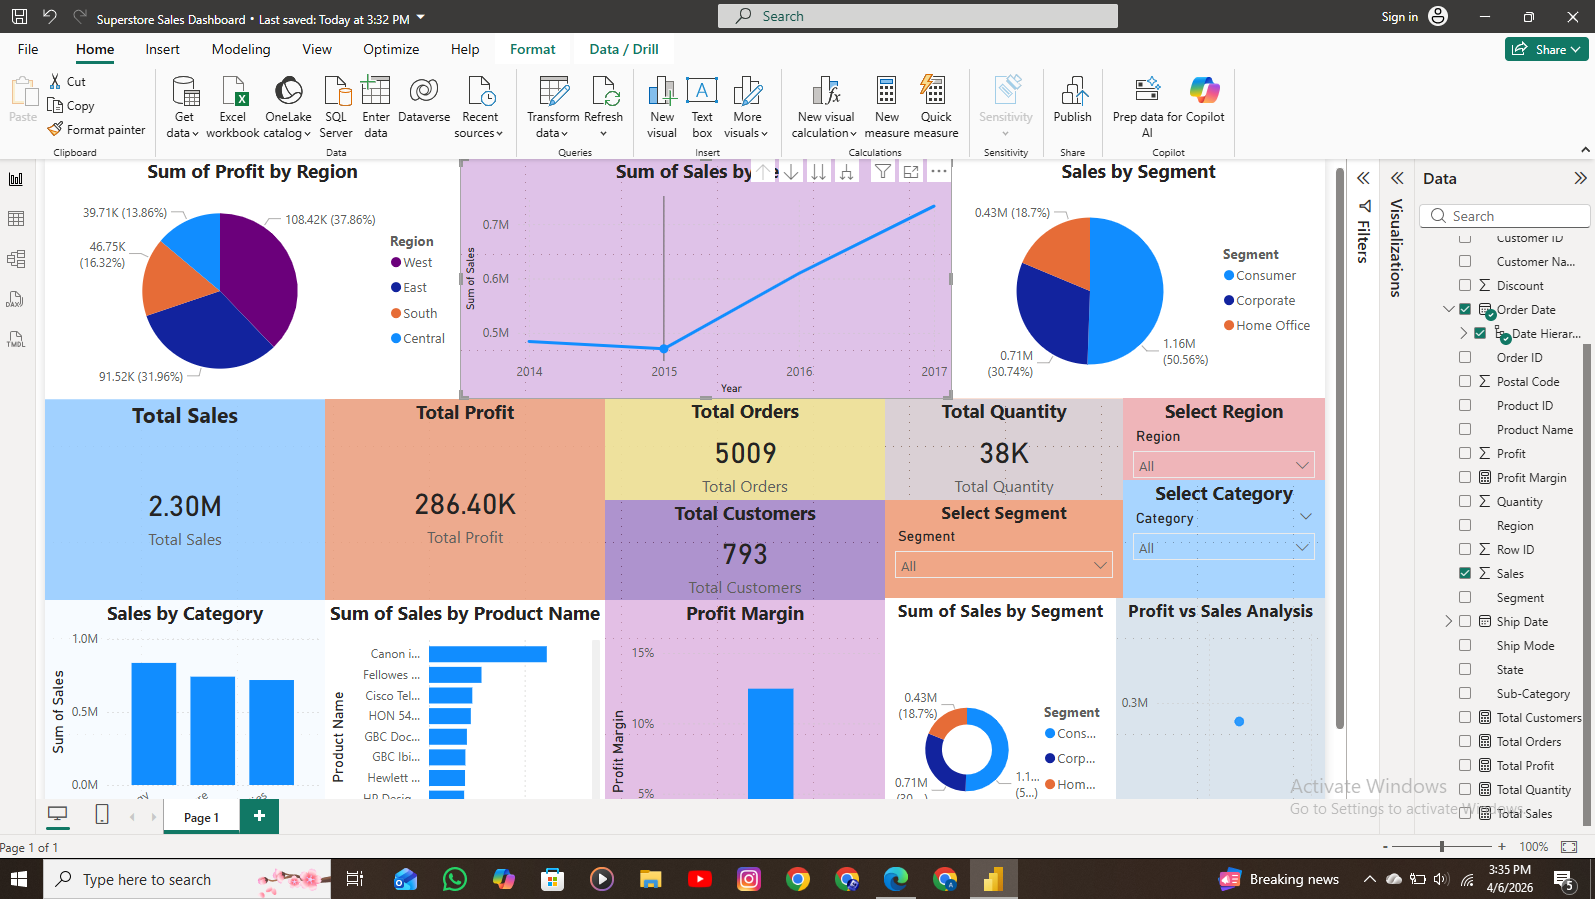

Layout of this report page (visuals, bound fields, positions):
{"tool":"powerbi","page":{"name":"Page 1","canvas":[1280,720],"ordinal":0},"visuals":[{"type":"lineChart","fields":{"Category":["US Superstore data.Order Date.Variation.Date Hierarchy.Year","US Superstore data.Order Date.Variation.Date Hierarchy.Quarter","US Superstore data.Order Date.Variation.Date Hierarchy.Month","US Superstore data.Order Date.Variation.Date Hierarchy.Day"],"Y":["Sum(US Superstore data.Sales)"]},"box":[414.9,0,492.6,241.1],"z":3},{"type":"card","title":"Total Sales","fields":{"Values":["US Superstore data.Total Sales"]},"box":[0,242.3,280,200],"z":4},{"type":"card","title":"Total Profit","fields":{"Values":["US Superstore data.Total Profit"]},"box":[280,241.1,280,201.1],"z":5},{"type":"card","title":"Total Orders","fields":{"Values":["US Superstore data.Total Orders"]},"box":[560,240,280,101.7],"z":6},{"type":"pieChart","fields":{"Category":["US Superstore data.Region"],"Y":["Sum(US Superstore data.Profit)"]},"box":[0,0,414.9,241.1],"z":7},{"type":"pieChart","title":"Sales by Segment","fields":{"Category":["US Superstore data.Segment"],"Y":["Sum(US Superstore data.Sales)"]},"box":[907.4,0,372.6,241.1],"z":8},{"type":"clusteredBarChart","fields":{"Category":["US Superstore data.Product Name"],"Y":["Sum(US Superstore data.Sales)"]},"box":[280,442.3,280,277.7],"z":9},{"type":"slicer","title":"Select Segment","fields":{"Values":["US Superstore data.Segment"]},"box":[840,341.7,237.7,98.3],"z":12},{"type":"slicer","title":"Select Category","fields":{"Values":["US Superstore data.Category"]},"box":[1077.7,322.3,202.3,117.7],"z":13},{"type":"columnChart","title":" Sales by Category","fields":{"Category":["US Superstore data.Category"],"Y":["Sum(US Superstore data.Sales)"]},"box":[0,442.3,280,277.7],"z":14},{"type":"clusteredColumnChart","fields":{"Y":["US Superstore data.Profit Margin"]},"box":[560,442.3,280,277.7],"z":15},{"type":"card","title":"Total Customers","fields":{"Values":["US Superstore data.Total Customers"]},"box":[560,341.7,280,100.6],"z":16},{"type":"card","title":"Total Quantity","fields":{"Values":["US Superstore data.Total Quantity"]},"box":[840,240,237.7,101.7],"z":17},{"type":"slicer","title":"Select Region","fields":{"Values":["US Superstore data.Region"]},"box":[1077.7,240,202.3,82.3],"z":18},{"type":"donutChart","fields":{"Category":["US Superstore data.Segment"],"Y":["Sum(US Superstore data.Sales)"]},"box":[840,440,230.9,280],"z":19},{"type":"scatterChart","title":"Profit vs Sales Analysis","fields":{"X":["Sum(US Superstore data.Sales)"],"Y":["Sum(US Superstore data.Profit)"]},"box":[1070.9,440,209.1,280],"z":20}]}

Visuals, with their boxes on the page's 1280x720 design canvas (x1, y1, x2, y2). These are canvas units, not pixel positions in the 1595x899 screenshot, which may show the page scaled, cropped or inside an application window:
lineChart - US Superstore data.Order Date.Variation.Date Hierarchy.Year x US Superstore data.Order Date.Variation.Date Hierarchy.Quarter: [415,0,908,241]
"Total Sales" card: [0,242,280,442]
"Total Profit" card: [280,241,560,442]
"Total Orders" card: [560,240,840,342]
pieChart - US Superstore data.Region x Sum(US Superstore data.Profit): [0,0,415,241]
"Sales by Segment" pieChart: [907,0,1280,241]
clusteredBarChart - US Superstore data.Product Name x Sum(US Superstore data.Sales): [280,442,560,720]
"Select Segment" slicer: [840,342,1078,440]
"Select Category" slicer: [1078,322,1280,440]
" Sales by Category" columnChart: [0,442,280,720]
clusteredColumnChart - US Superstore data.Profit Margin: [560,442,840,720]
"Total Customers" card: [560,342,840,442]
"Total Quantity" card: [840,240,1078,342]
"Select Region" slicer: [1078,240,1280,322]
donutChart - US Superstore data.Segment x Sum(US Superstore data.Sales): [840,440,1071,720]
"Profit vs Sales Analysis" scatterChart: [1071,440,1280,720]
